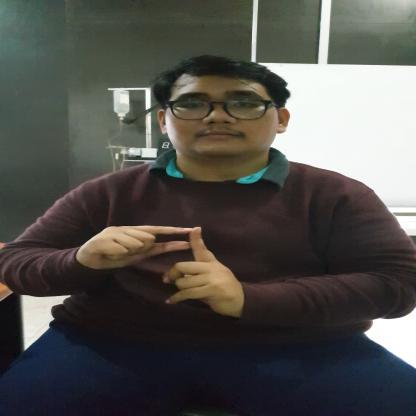P: (78, 224, 242, 318)
